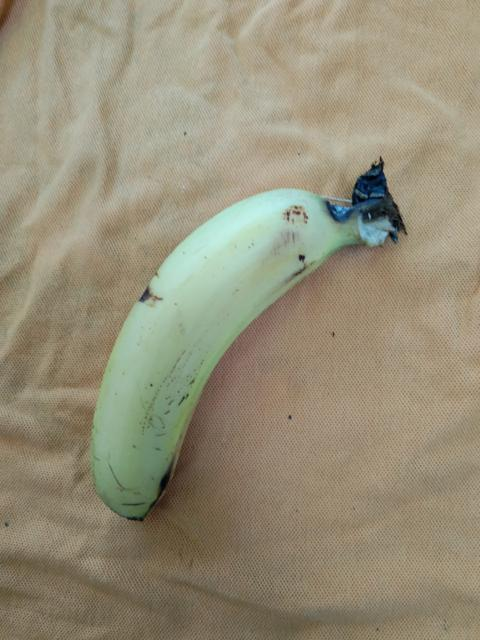ripe: (78, 179, 332, 520)
